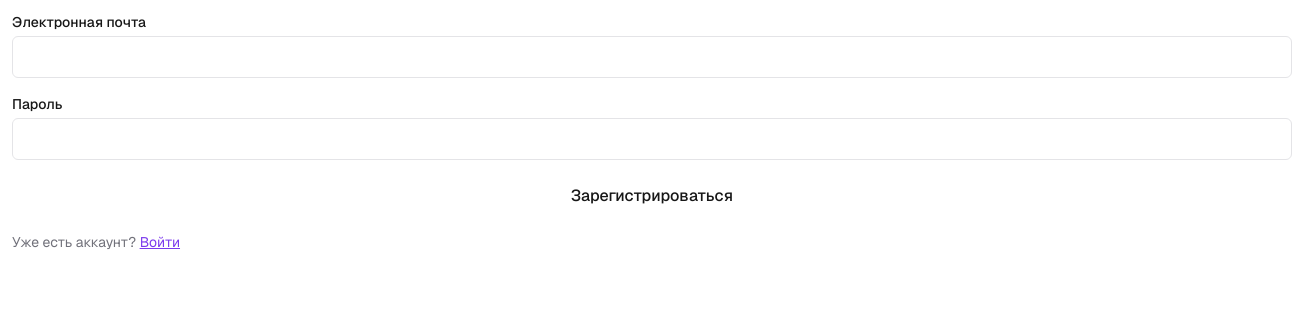
Scenario: SignUpForm › shows the other failure alert and keeps the email
Type "reader@example.com" into the field labelled "Электронная почта" at [652, 57], box [12,36,1292,78]
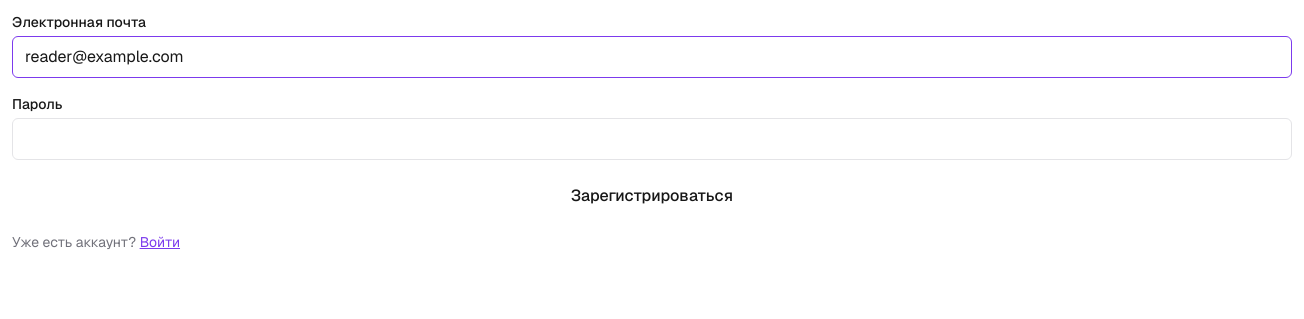
Type "secret-password-1" into the password field labelled "Пароль" at [652, 139], box [12,118,1292,160]
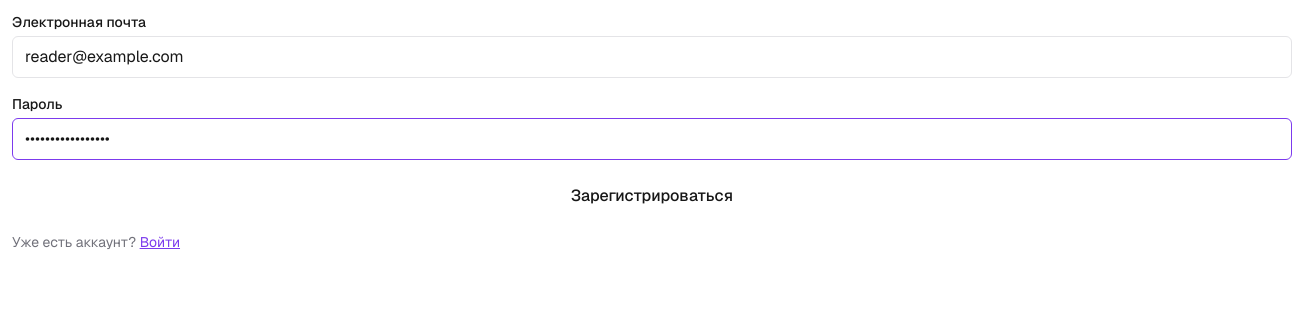
Click the button "Зарегистрироваться" at [652, 196], box [12,176,1292,216]
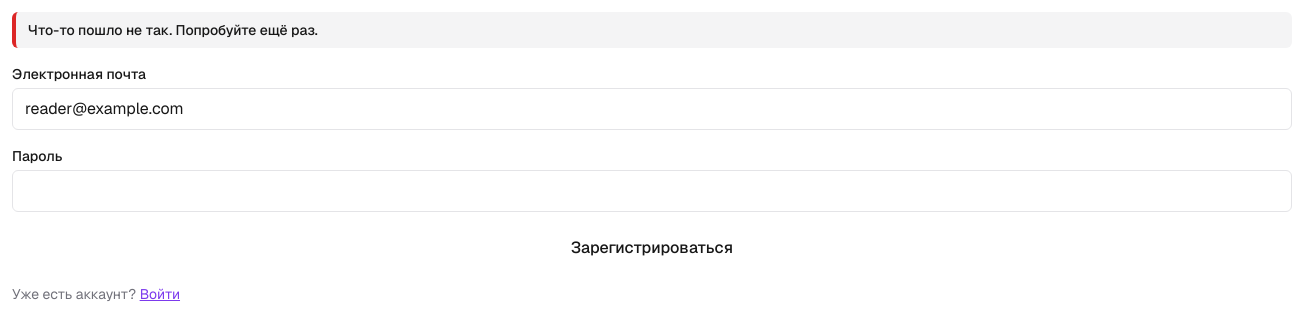
Result: the message reads "Что-то пошло не так. Попробуйте ещё раз." at [28,21,318,39]
Result: the password field labelled "Пароль" is empty at [12,170,1292,212]
